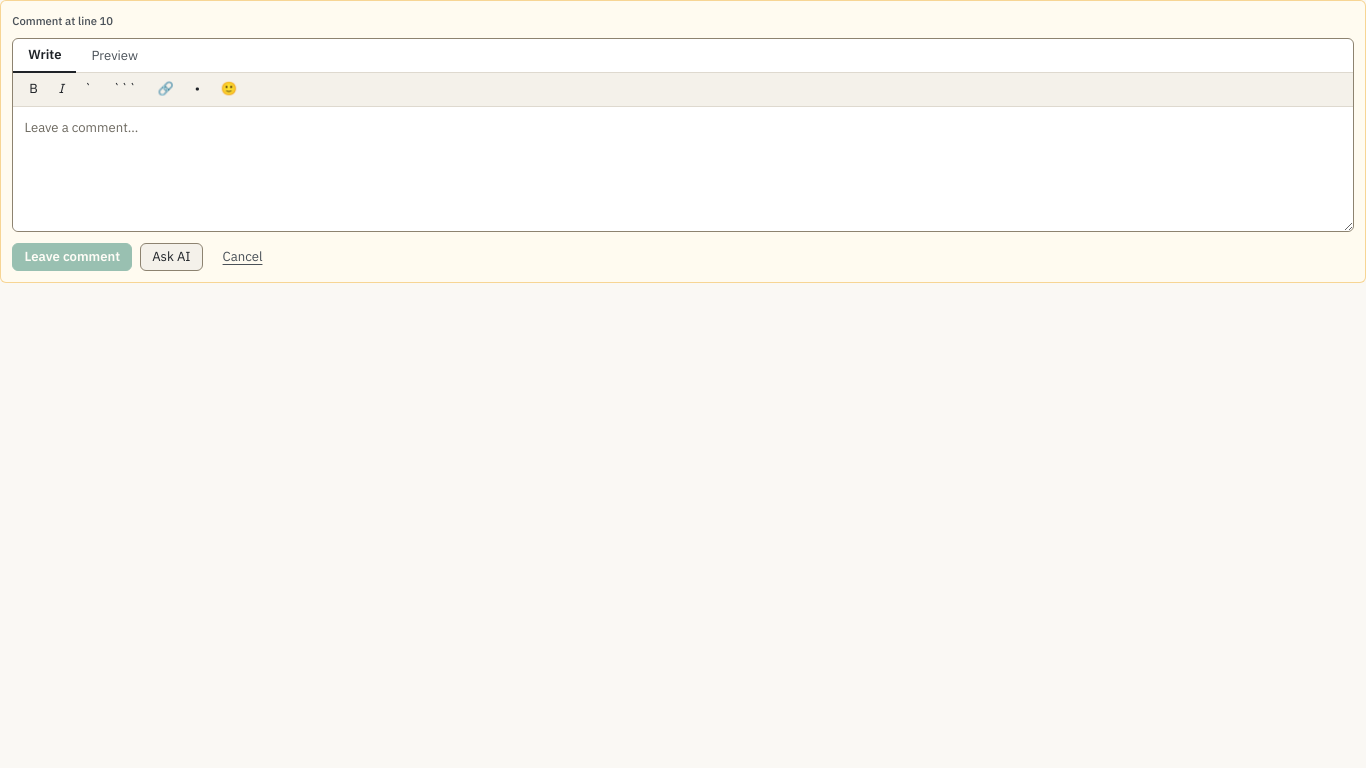
Scenario: DraftThread — action row (Leave comment / Ask AI / Cancel buttons) › Ask AI streams the answer into the panel transcript
Click the button "Ask AI". click: [171, 257]
box: [140, 243, 203, 271]
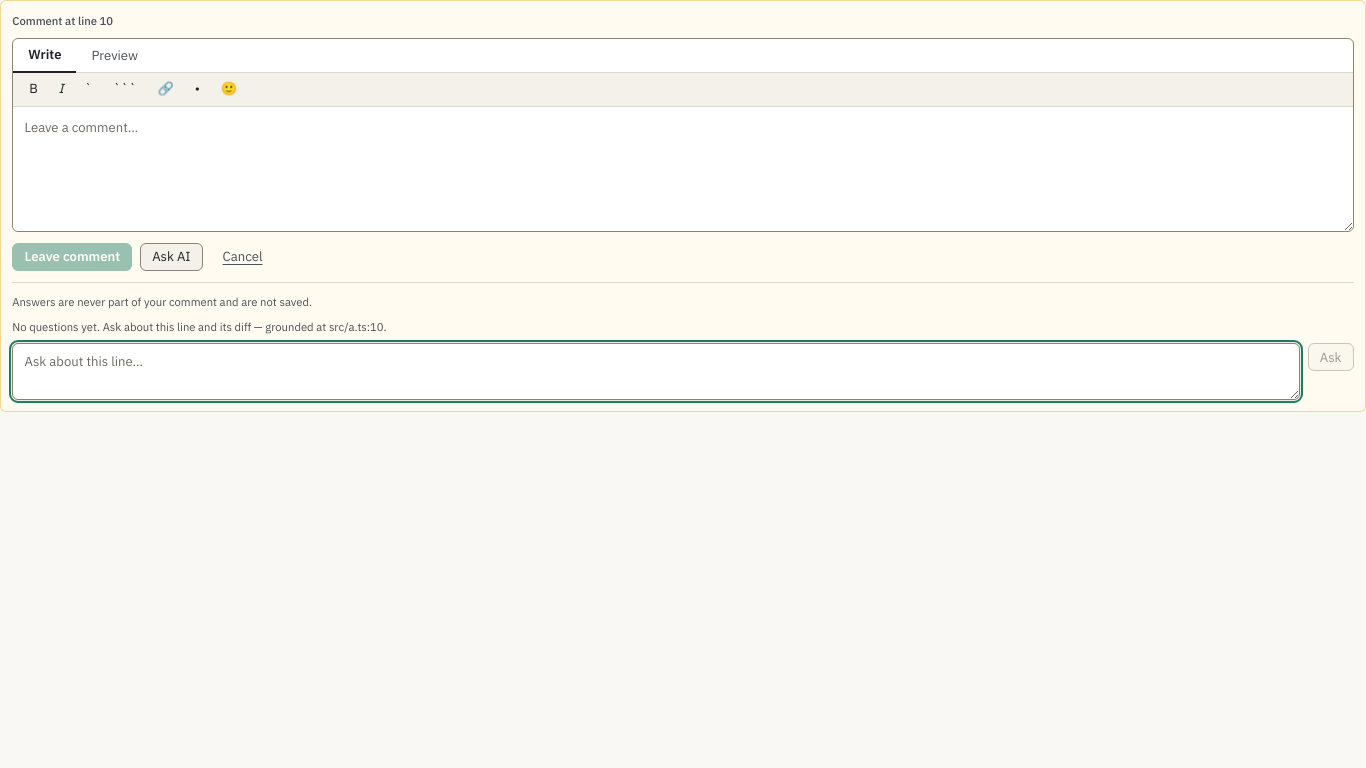
Type "My question" into the text box with test id "ask-question-input". click: [656, 371]
box: [12, 343, 1300, 400]
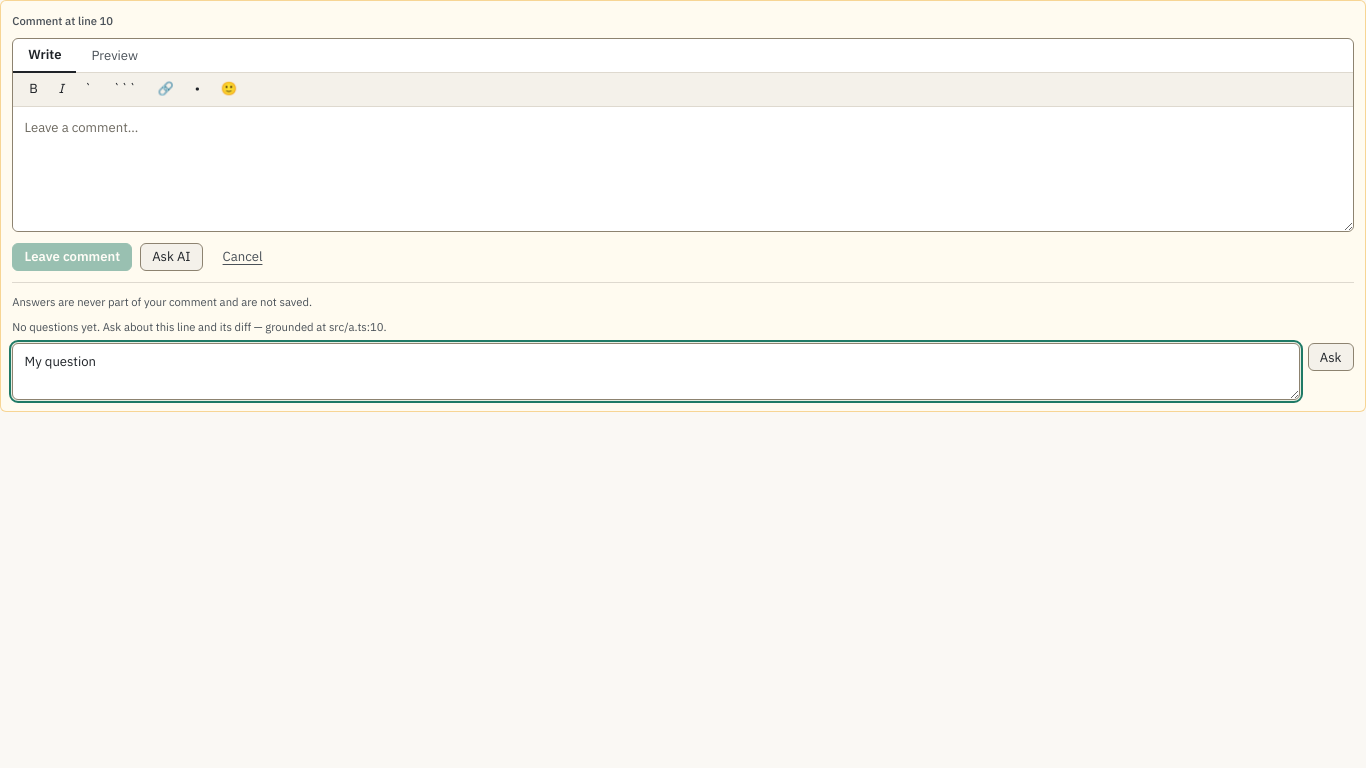
Click the button with test id "ask-send". click: [1331, 357]
box: [1308, 343, 1354, 371]
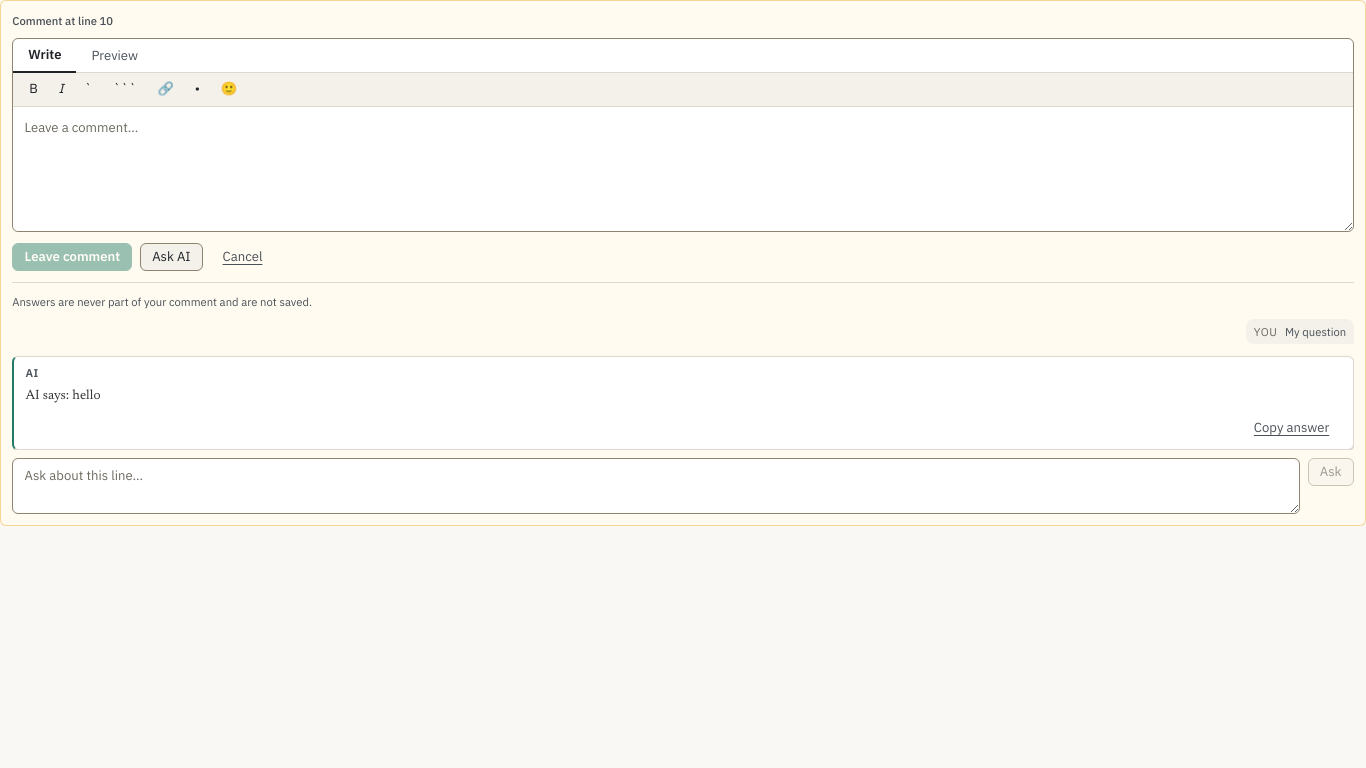
Check: the element with test id "ask-answer" reads "AI says: hello", box [26, 389, 100, 403]
